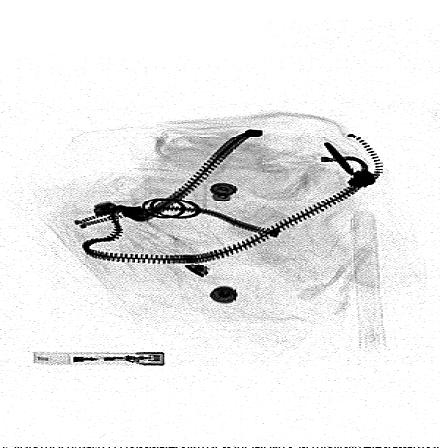Lighter: (33, 351, 166, 366)
